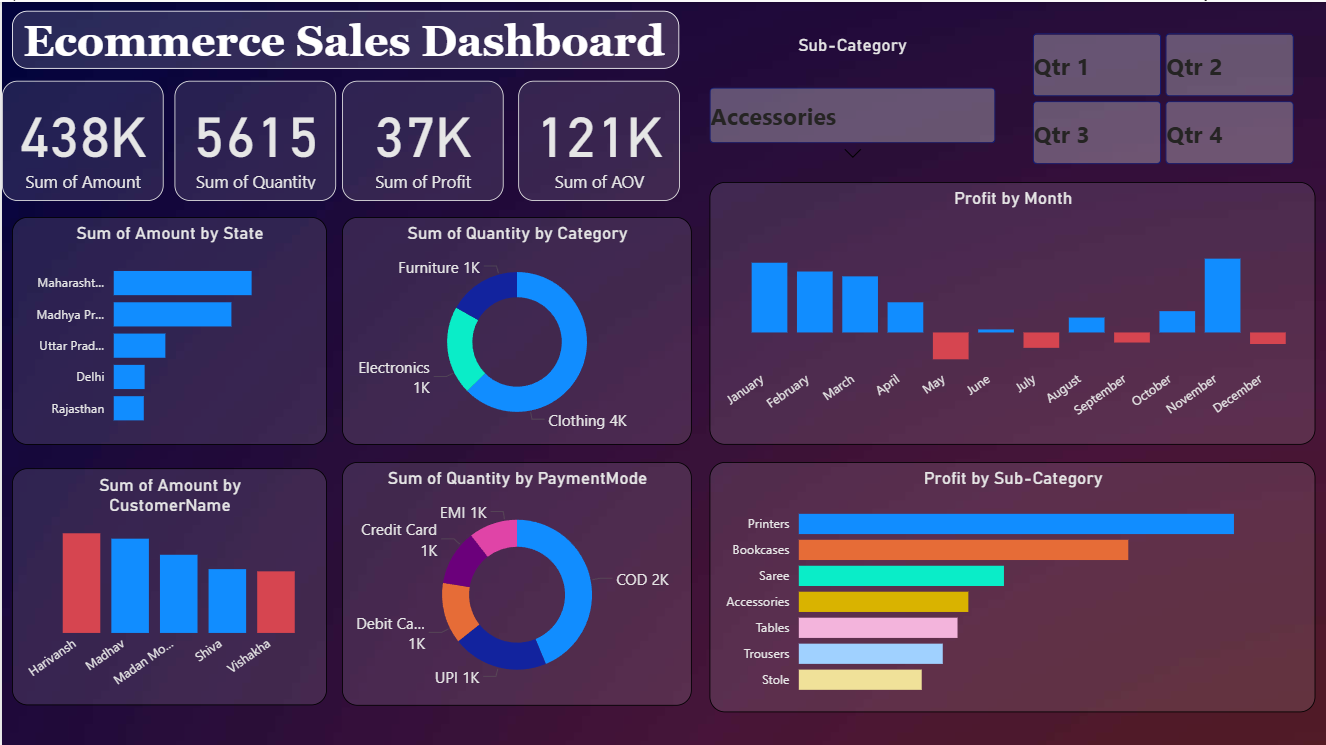

The dashboard page shown, as its layout file describes it:
{"tool":"powerbi","page":{"name":"Page 1","canvas":[1280,720],"ordinal":0},"visuals":[{"type":"textbox","title":"Ecommerce Sales Dashboard","box":[10,8.8,643.8,56.2],"z":0},{"type":"clusteredColumnChart","title":"Profit by Month","fields":{"Category":["Orders.Order Date.Variation.Date Hierarchy.Month"],"Y":["Sum(Details.Profit)"]},"box":[682.5,173.8,585,253.8],"z":1000},{"type":"clusteredBarChart","title":" Profit by Sub-Category","fields":{"Category":["Details.Sub-Category"],"Y":["Sum(Details.Profit)"]},"box":[682.5,443.8,585,241.2],"z":2000},{"type":"donutChart","fields":{"Category":["Details.Category"],"Y":["Sum(Details.Quantity)"]},"box":[328.8,207.5,337.5,220],"z":3000},{"type":"donutChart","fields":{"Y":["Sum(Details.Quantity)"],"Category":["Details.PaymentMode"]},"box":[328.8,443.8,337.5,235],"z":4000},{"type":"card","fields":{"Values":["Sum(Details.Amount)"]},"box":[0,76.2,156.2,116.2],"z":5000},{"type":"card","fields":{"Values":["Sum(Details.Quantity)"]},"box":[166.2,76.2,156.2,116.2],"z":6000},{"type":"card","fields":{"Values":["Sum(Details.Profit)"]},"box":[328.8,76.2,156.2,116.2],"z":7000},{"type":"card","fields":{"Values":["Sum(Details.AOV)"]},"box":[498.8,76.2,156.2,116.2],"z":8000},{"type":"clusteredBarChart","fields":{"Category":["Orders.State"],"Y":["Sum(Details.Amount)"]},"box":[10,207.5,303.8,220],"z":9000},{"type":"clusteredColumnChart","fields":{"Category":["Orders.CustomerName"],"Y":["Sum(Details.Amount)"]},"box":[10,450,303.8,228.8],"z":10000},{"type":"advancedSlicerVisual","fields":{"Values":["Orders.Order Date.Variation.Date Hierarchy.Quarter"]},"box":[974.8,25.3,293.2,131.5],"z":11000},{"type":"advancedSlicerVisual","fields":{"Values":["Details.Sub-Category"]},"box":[682.8,31.4,276.3,125.5],"z":12000}]}

Visuals, with their boxes in screenshot pixels (x1, y1, x2, y2), scaled from the page's 1280x720 canvas onto the 1326x745 screenshot:
"Ecommerce Sales Dashboard" textbox: x1=10 y1=9 x2=677 y2=67
"Profit by Month" clusteredColumnChart: x1=707 y1=180 x2=1313 y2=442
" Profit by Sub-Category" clusteredBarChart: x1=707 y1=459 x2=1313 y2=709
donutChart - Details.Category x Sum(Details.Quantity): x1=341 y1=215 x2=690 y2=442
donutChart - Sum(Details.Quantity) x Details.PaymentMode: x1=341 y1=459 x2=690 y2=702
card - Sum(Details.Amount): x1=0 y1=79 x2=162 y2=199
card - Sum(Details.Quantity): x1=172 y1=79 x2=334 y2=199
card - Sum(Details.Profit): x1=341 y1=79 x2=502 y2=199
card - Sum(Details.AOV): x1=517 y1=79 x2=679 y2=199
clusteredBarChart - Orders.State x Sum(Details.Amount): x1=10 y1=215 x2=325 y2=442
clusteredColumnChart - Orders.CustomerName x Sum(Details.Amount): x1=10 y1=466 x2=325 y2=702
advancedSlicerVisual - Orders.Order Date.Variation.Date Hierarchy.Quarter: x1=1010 y1=26 x2=1314 y2=162
advancedSlicerVisual - Details.Sub-Category: x1=707 y1=32 x2=994 y2=162
